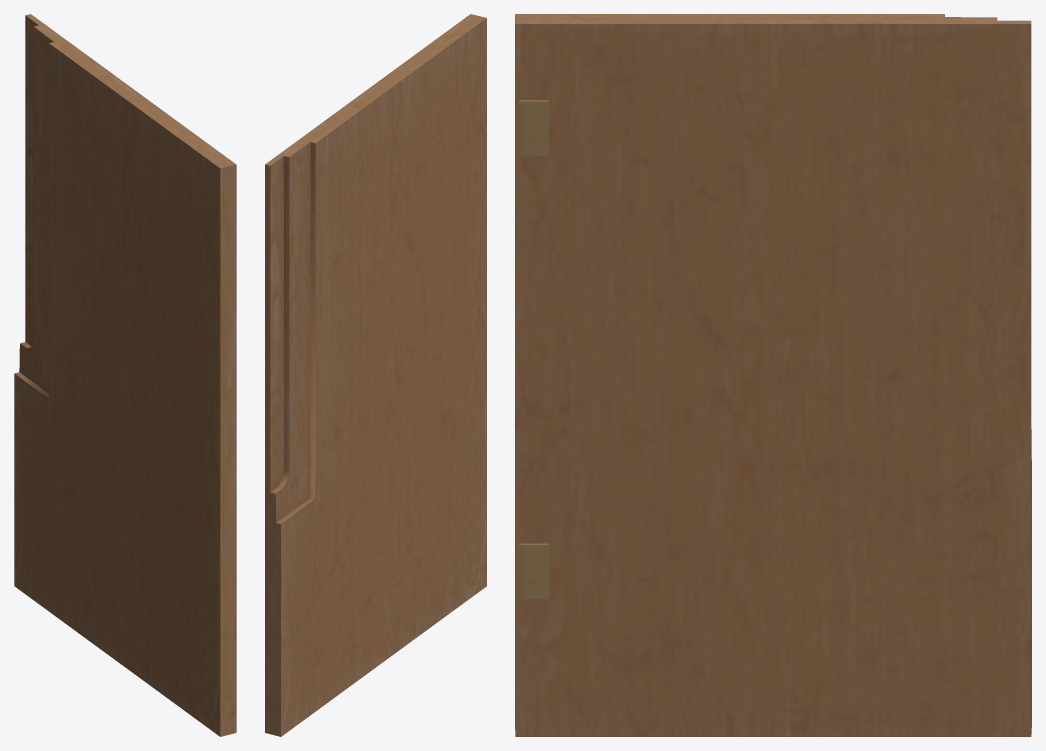
File: SM_Shelf_TV_A1_Door2.fbx
The picture shows the model from 3 angles, left to right: view 1: azimuth 30°, elevation 25°; view 2: azimuth 150°, elevation 25°; view 3: azimuth 270°, elevation 25°; orthographic projection. The views are drawn at different scales.
Parts seen in each view (by area): view 1: SM_Shelf_TV_A1_Door2; view 2: SM_Shelf_TV_A1_Door2; view 3: SM_Shelf_TV_A1_Door2.
Part boxes in pixels (bbox=[...]): SM_Shelf_TV_A1_Door2: bbox=[14, 14, 236, 736]; SM_Shelf_TV_A1_Door2: bbox=[265, 14, 486, 736]; SM_Shelf_TV_A1_Door2: bbox=[515, 14, 1031, 736].
Size of the model in its own units: 1.84 by 36.78 by 56.
1 material, 1 textured.
